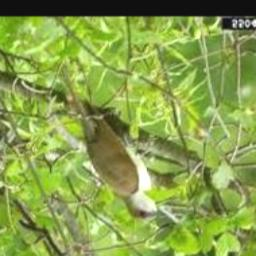Cuckoo: (62, 67, 160, 221)
